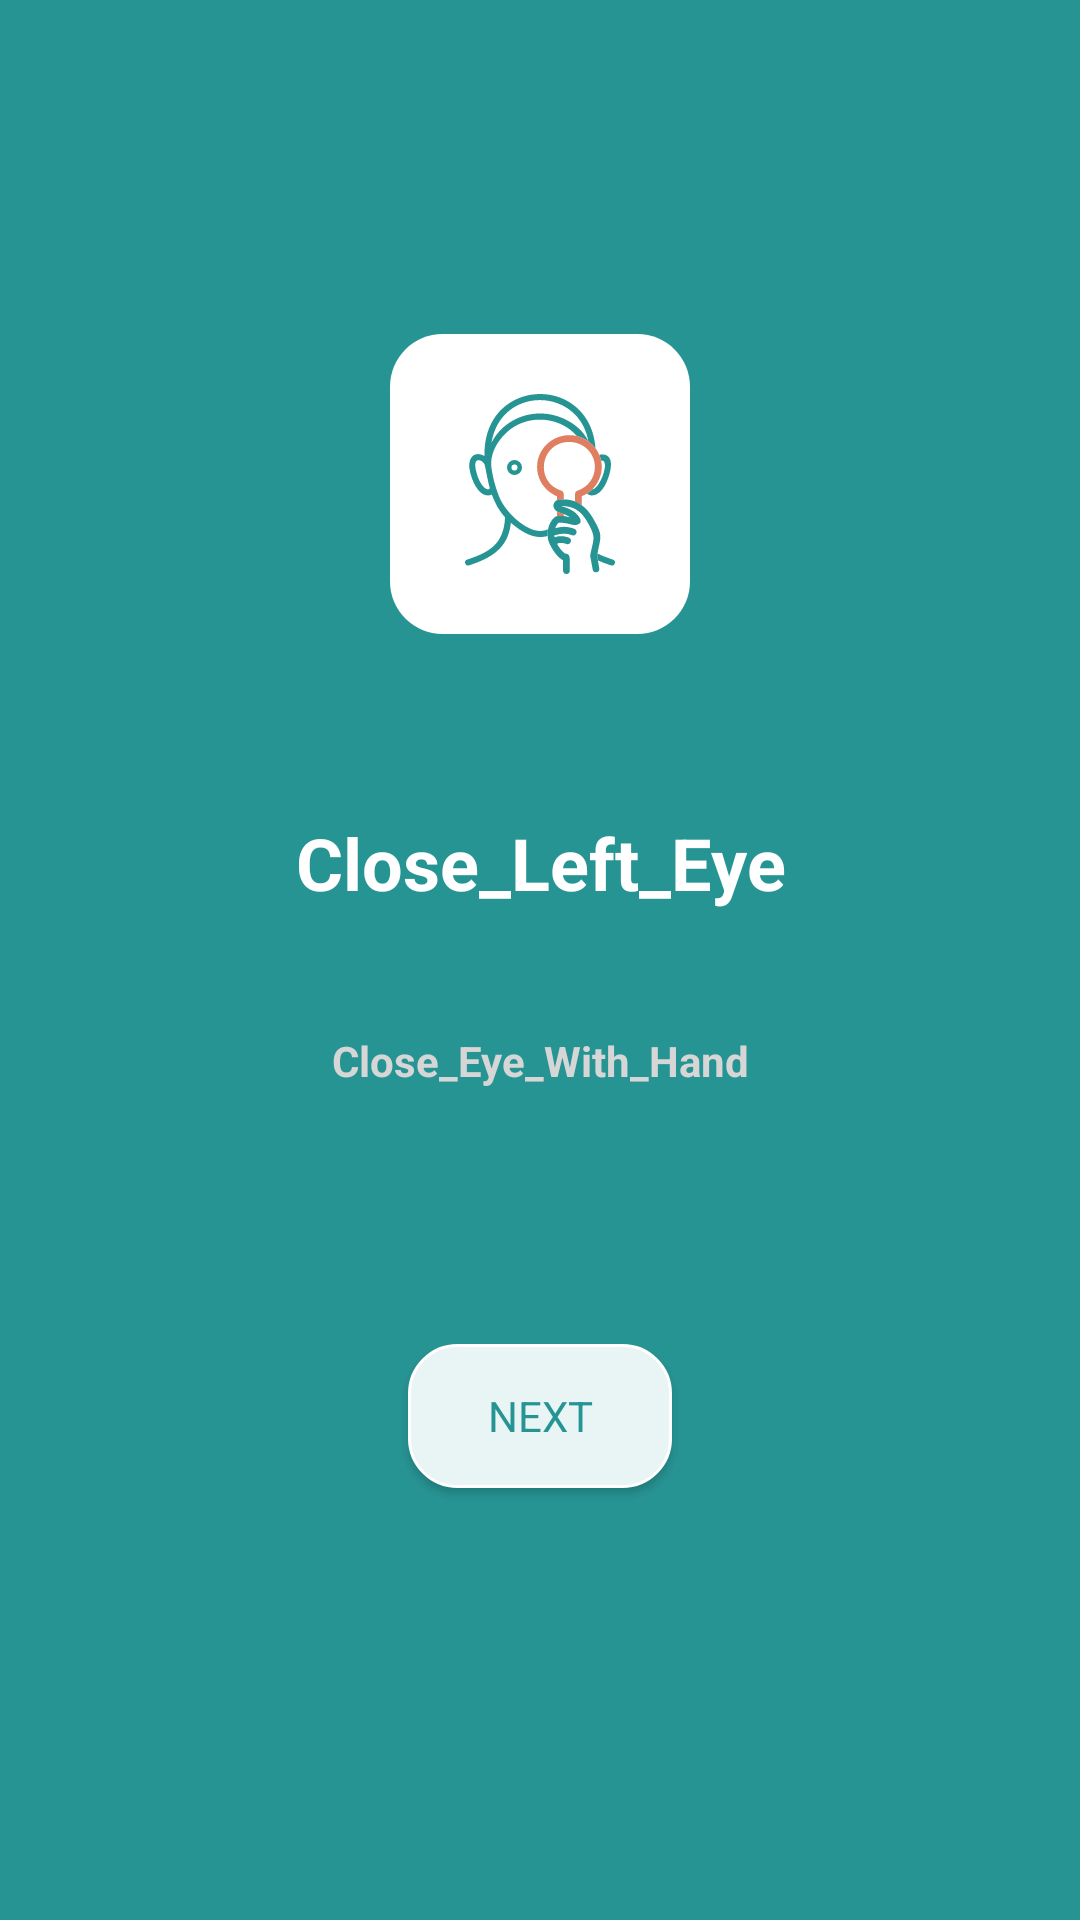

Where icons sit on this 1080*1920 app screen, as bbox(x1, y1, x2, y2):
close left eye: bbox(390, 334, 690, 634)
